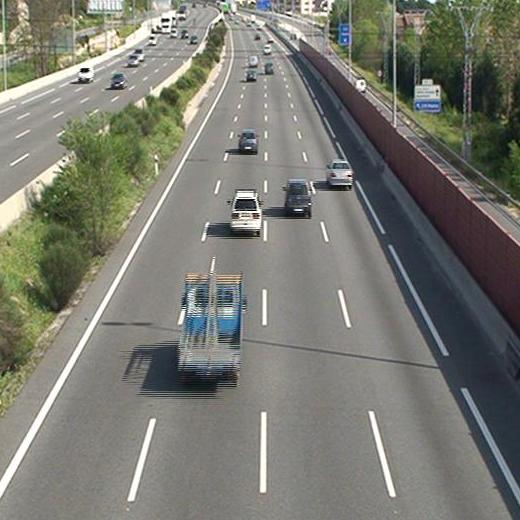car: (231, 190, 261, 231), (283, 180, 312, 215), (327, 159, 353, 185), (238, 130, 258, 152), (263, 61, 274, 74), (245, 70, 257, 81)
small-truck: (179, 274, 244, 381)
van: (248, 55, 258, 67)
